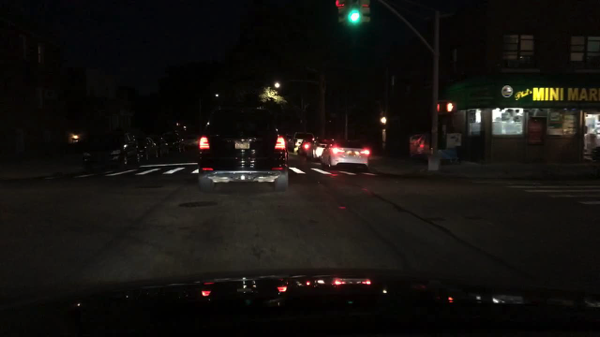car: (196, 105, 289, 193), (82, 128, 141, 172), (318, 139, 370, 173), (286, 131, 315, 152), (305, 138, 330, 162), (135, 137, 158, 162), (164, 130, 186, 154), (154, 134, 172, 157), (182, 132, 201, 148), (296, 140, 309, 157), (283, 134, 292, 142)
traffic light: (334, 0, 349, 24), (349, 0, 359, 24), (362, 0, 369, 23), (445, 102, 457, 112), (435, 101, 444, 114)
